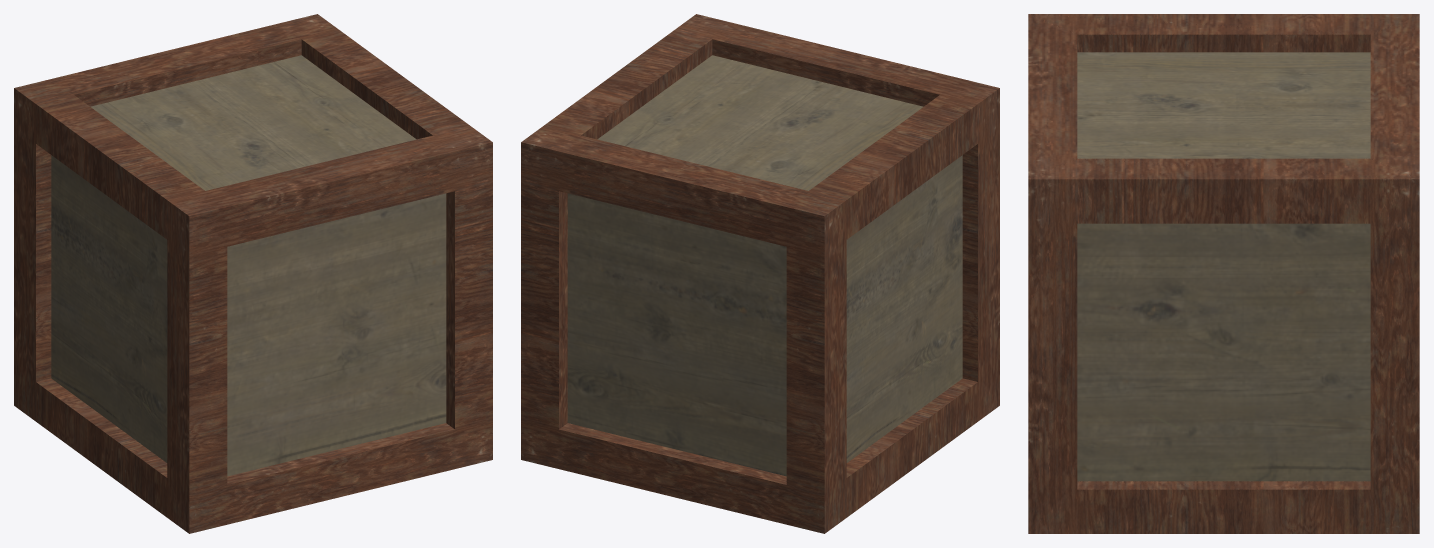
Rendered from crateMid.glb.
3 views of the same model, side by side, from view 1: azimuth 30°, elevation 25°; view 2: azimuth 150°, elevation 25°; view 3: azimuth 270°, elevation 25° (orthographic). The views are drawn at different scales.
Visible parts, largest first — view 1: Crate_Square_Cube.031; view 2: Crate_Square_Cube.031; view 3: Crate_Square_Cube.031.
Part boxes in pixels (<box>): Crate_Square_Cube.031: <box>14,14,492,533</box>; Crate_Square_Cube.031: <box>521,14,999,533</box>; Crate_Square_Cube.031: <box>1028,14,1419,533</box>.
Size of the model in its own units: 2 by 2 by 2.
Materials: 2 (2 with a texture image).
